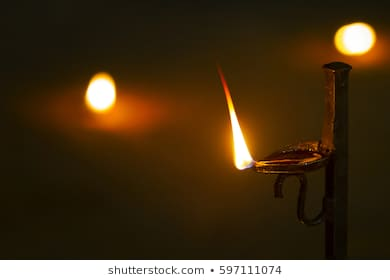Fire: (206, 64, 257, 178), (323, 14, 379, 60), (79, 60, 123, 116)
